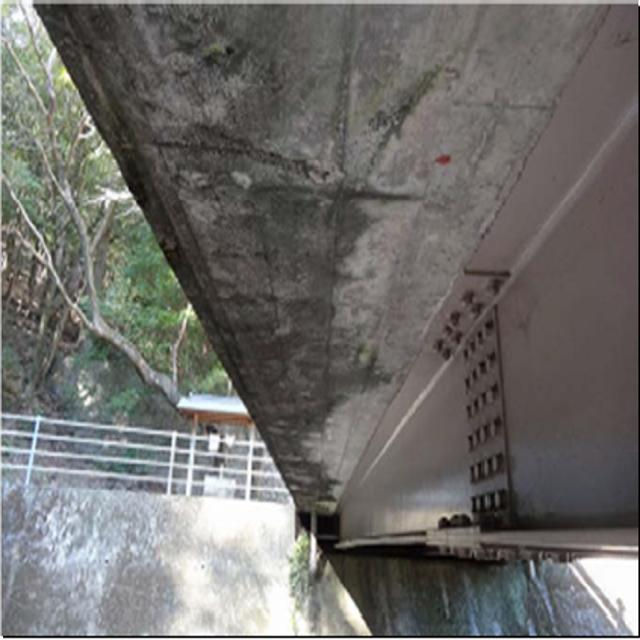leakage: (350, 547, 597, 640)
